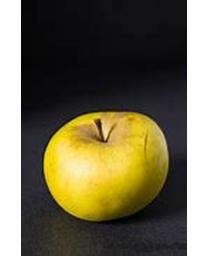apple: (41, 109, 169, 221)
